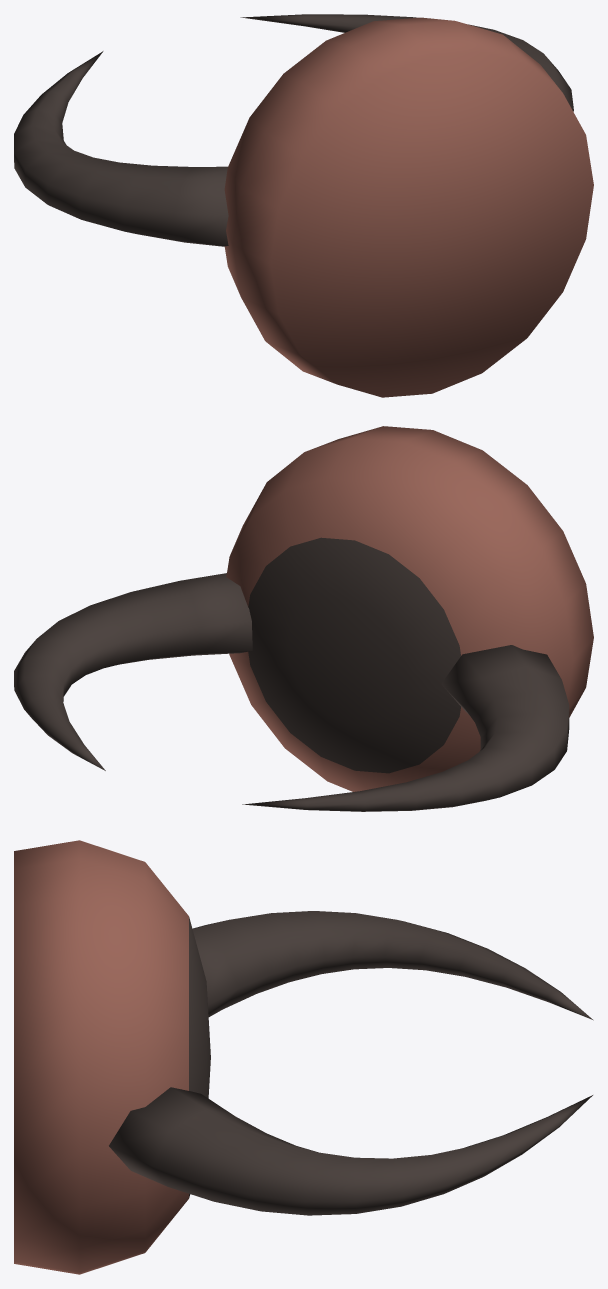
The model's file is part_mouth_jaw.glb.
3 renders of one model, top to bottom at view 1: azimuth 30°, elevation 25°; view 2: azimuth 150°, elevation 25°; view 3: azimuth 270°, elevation 25°, orthographic. The views are drawn at different scales.
Parts seen in each view (by area): view 1: JawBase, Mandible_L, Mandible_R; view 2: JawBase, Mandible_L, Mandible_R; view 3: JawBase, Mandible_R, Mandible_L.
Boxes of the visible parts, x1=… form: JawBase: x1=224, y1=17, x2=593, y2=397; Mandible_L: x1=14, y1=51, x2=228, y2=246; Mandible_R: x1=240, y1=14, x2=573, y2=111; JawBase: x1=226, y1=426, x2=593, y2=791; Mandible_L: x1=242, y1=645, x2=569, y2=811; Mandible_R: x1=14, y1=573, x2=252, y2=770; JawBase: x1=14, y1=840, x2=210, y2=1274; Mandible_R: x1=109, y1=1087, x2=592, y2=1215; Mandible_L: x1=192, y1=911, x2=593, y2=1020.
Bounding box in the file's own units: 0.2998 × 0.2 × 0.265.
